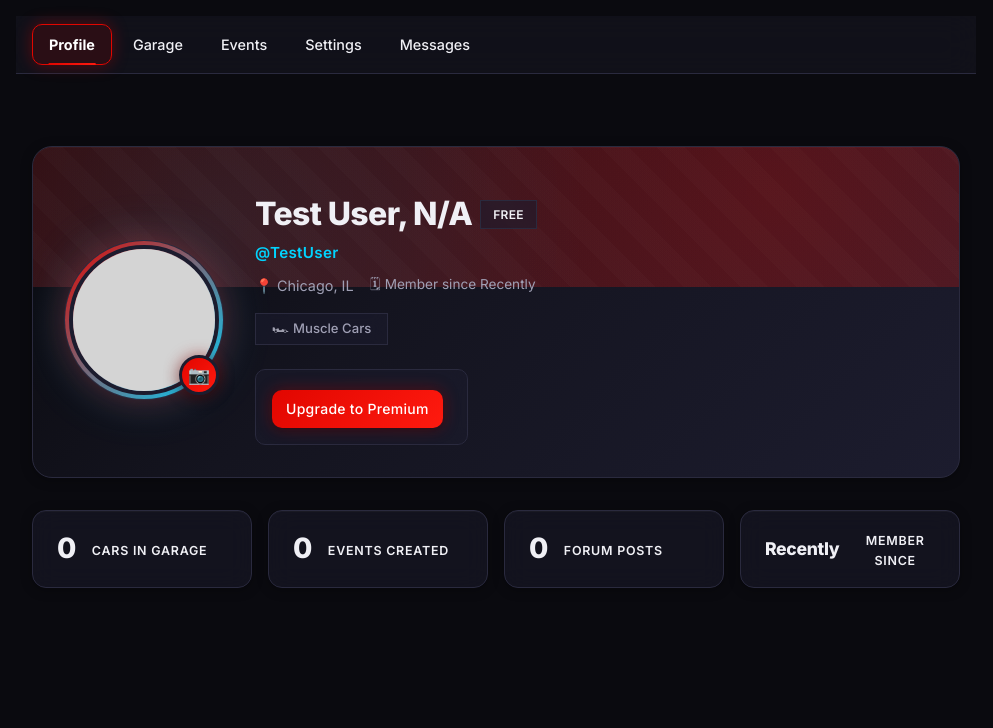
Profile component › clicking Settings tab shows settings section
Click the button "Settings": (333, 44) [288,24,379,65]
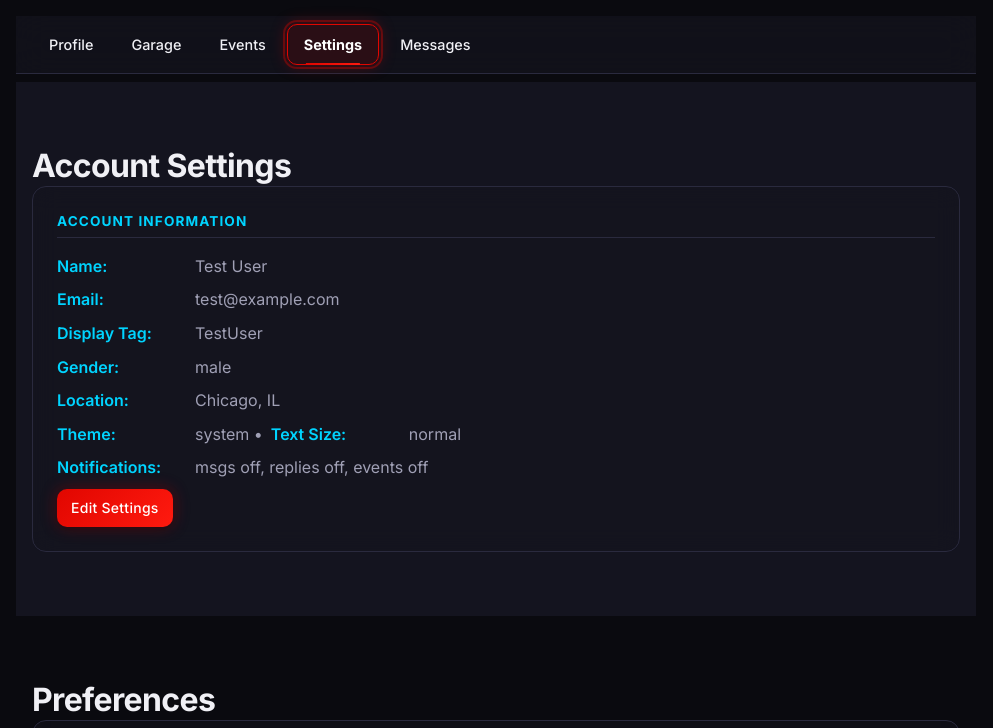
Expected: the button "Edit Settings" is shown, [57,489,173,527]
